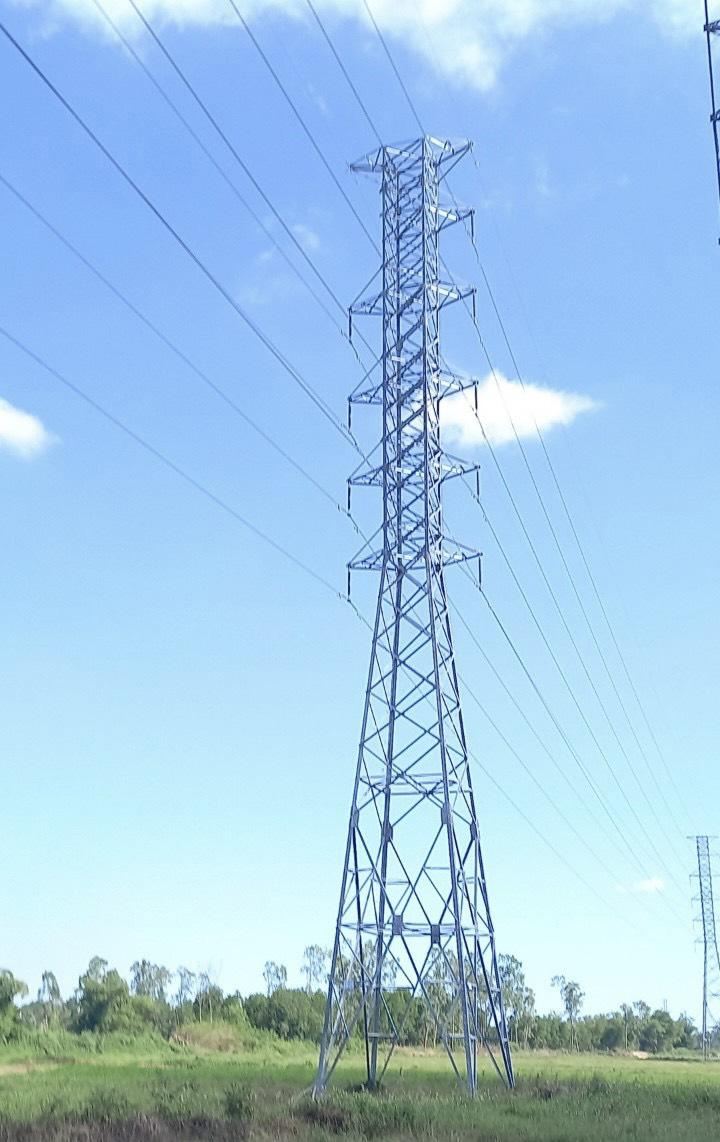power_tower: (340, 130, 502, 1092)
